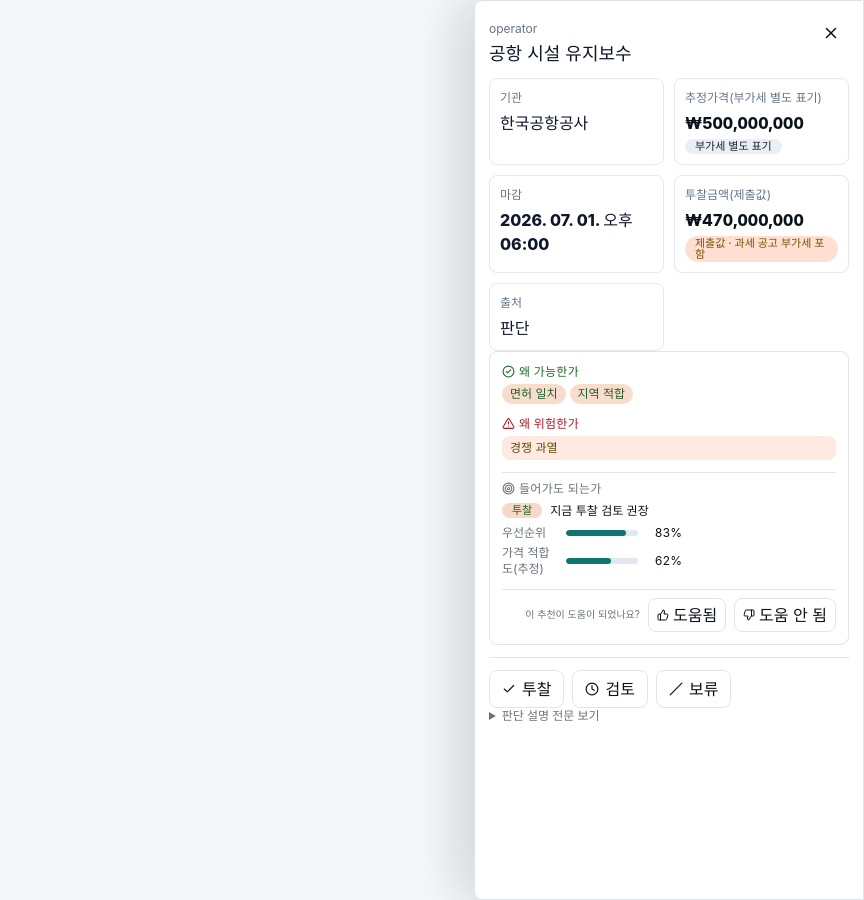
Test: DetailDrawer inline actions › session/operatorId가 주어지면 액션 버튼 3개를 노출하고 POST한다
Click the button with aria-label "검토로 전환": [610, 688] box [572,670,648,708]
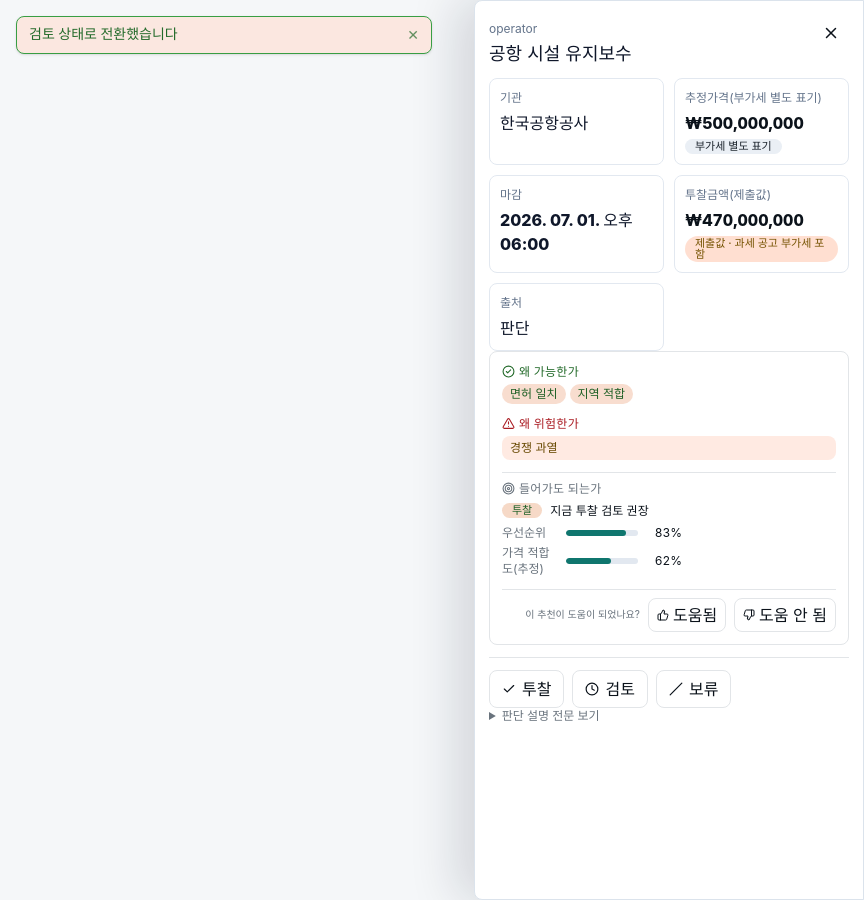
Expected: the text "검토 상태로 전환했습니다" is shown, [29,25,178,42]
